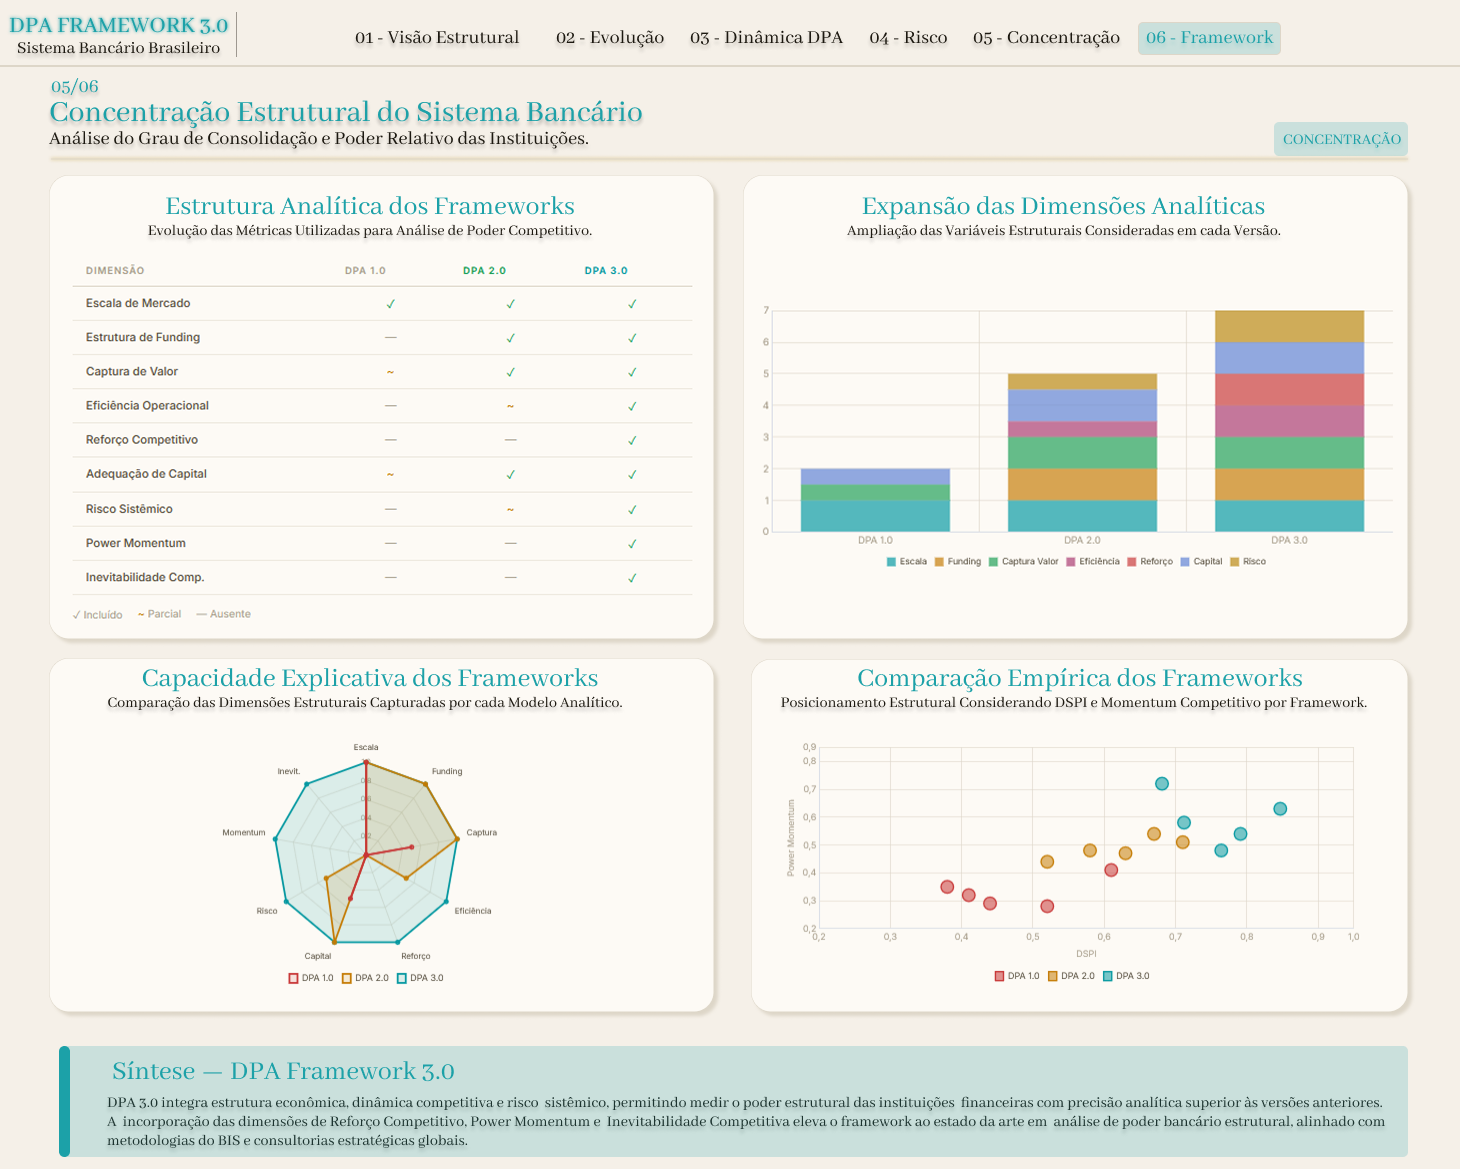

The dashboard page shown, as its layout file describes it:
{"tool":"powerbi","page":{"name":"Framework","canvas":[1460,1169],"ordinal":5},"visuals":[{"type":"pageNavigator","box":[342.5,12.5,933.8,48.8],"z":0}]}

Visuals, with their boxes in screenshot pixels (x1, y1, x2, y2), scaled from the page's 1460x1169 canvas onto the 1460x1169 screenshot:
pageNavigator: l=342, t=12, r=1276, b=61
